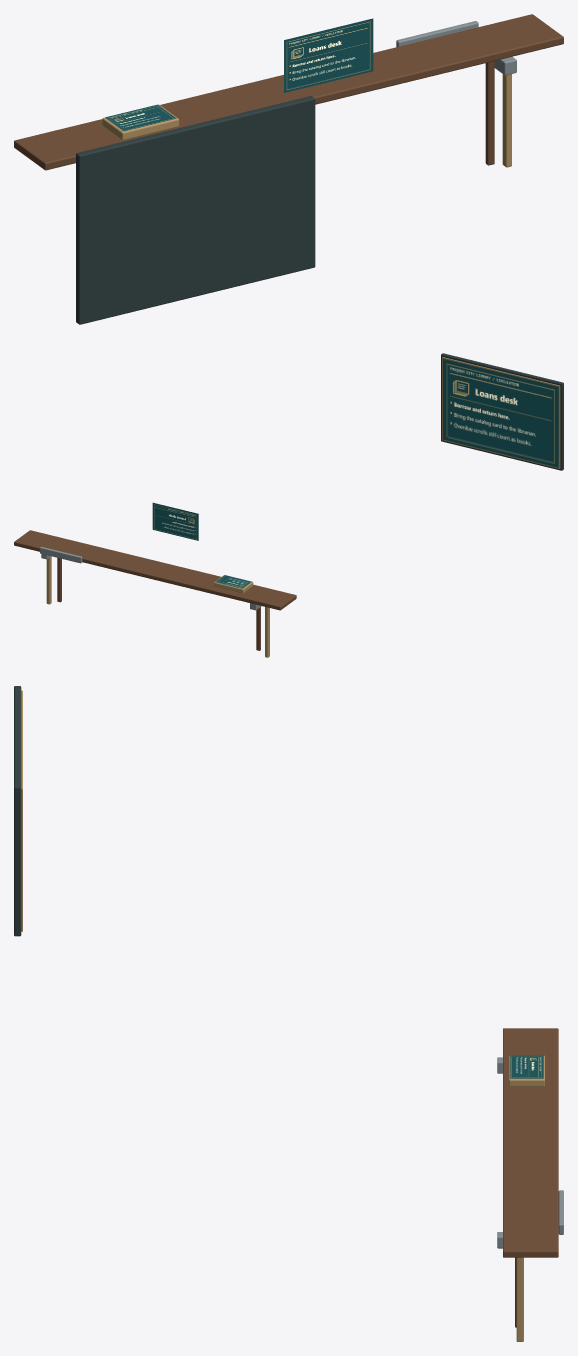
The model's file is library-construction.glb.
The picture shows the model from 3 angles, top to bottom: view 1: azimuth 30°, elevation 25°; view 2: azimuth 150°, elevation 25°; view 3: azimuth 270°, elevation 25°; orthographic projection. The views are drawn at different scales.
Visible parts, largest first — view 1: FCMU_Returns guide mounting frame, FCMU_Borrowing ledge, FCMU_Circulation queue, FCMU_Card tray, FCMU_Returns bin lip; view 2: FCMU_Circulation queue, FCMU_Borrowing ledge, FCMU_Card tray, FCMU_Returns guide mounting frame, FCMU_Returns bin lip; view 3: FCMU_Borrowing ledge, FCMU_Returns guide mounting frame, FCMU_Card tray, FCMU_Circulation queue.
Boxes of the visible parts, x1,y1,x2,y2 form: FCMU_Returns guide mounting frame: (76, 96, 315, 324); FCMU_Borrowing ledge: (14, 14, 563, 170); FCMU_Circulation queue: (105, 18, 373, 131); FCMU_Card tray: (102, 74, 511, 167); FCMU_Returns bin lip: (396, 21, 516, 75); FCMU_Circulation queue: (152, 359, 558, 588); FCMU_Borrowing ledge: (14, 530, 296, 650); FCMU_Card tray: (46, 357, 560, 657); FCMU_Returns guide mounting frame: (441, 353, 563, 470); FCMU_Returns bin lip: (40, 546, 261, 610); FCMU_Borrowing ledge: (503, 1028, 558, 1327); FCMU_Returns guide mounting frame: (14, 686, 21, 936); FCMU_Card tray: (21, 690, 544, 1341); FCMU_Circulation queue: (510, 1055, 543, 1078).
Bounding box in the file's own units: 4.92 × 2.43 × 3.49.
Materials: 5 (1 with a texture image).
